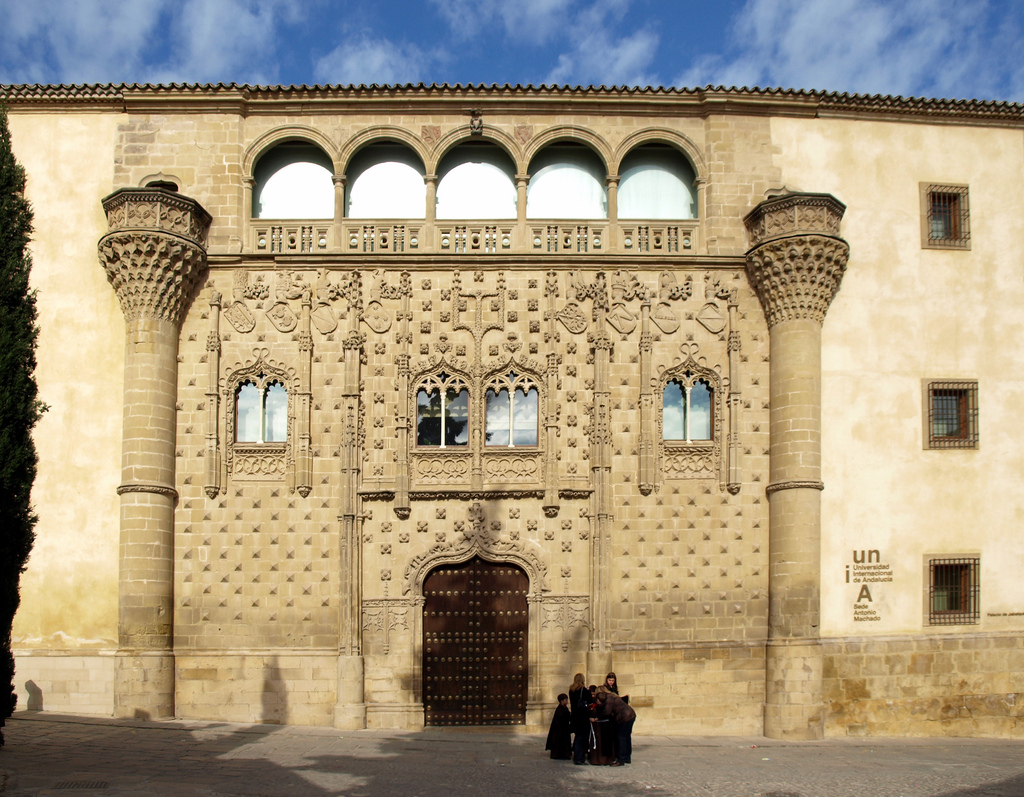arco-conopial: (413, 535, 538, 585), (221, 355, 298, 389), (478, 353, 546, 390), (409, 353, 476, 390), (655, 354, 725, 389)
arco-medio-punto: (244, 128, 340, 192), (338, 125, 431, 190), (614, 125, 704, 191), (523, 125, 614, 190), (429, 127, 522, 187)
